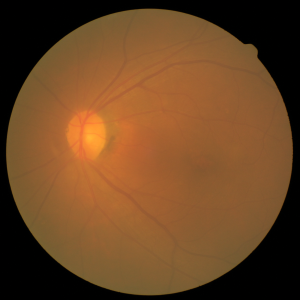cataract: (35, 88, 242, 210)
